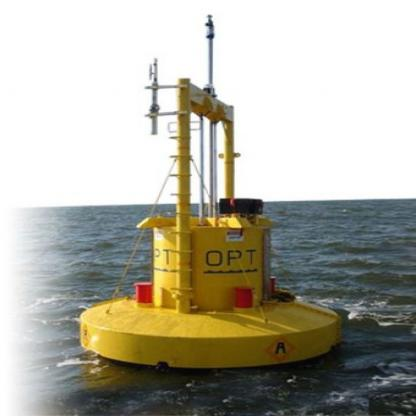buoy: (67, 5, 348, 374)
